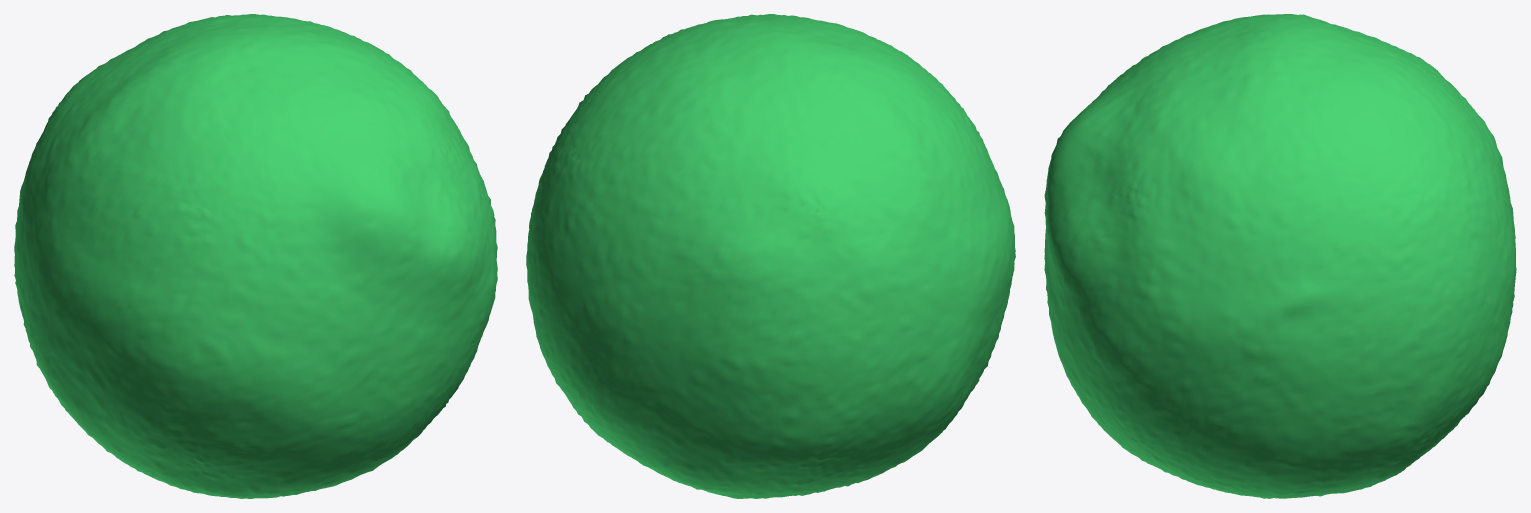
File: SphericalWorldVisualTerrain.fbx
3 renders of one model, left to right at view 1: azimuth 30°, elevation 25°; view 2: azimuth 150°, elevation 25°; view 3: azimuth 270°, elevation 25°, orthographic.
Parts seen in each view (by area): view 1: Sphere; view 2: Sphere; view 3: Sphere.
Boxes of the visible parts, x1,y1,x2,y2 form: Sphere: [14, 14, 497, 498]; Sphere: [526, 14, 1015, 498]; Sphere: [1044, 14, 1516, 498].
Bounding box in the file's own units: 5048 × 5061 × 4978.
